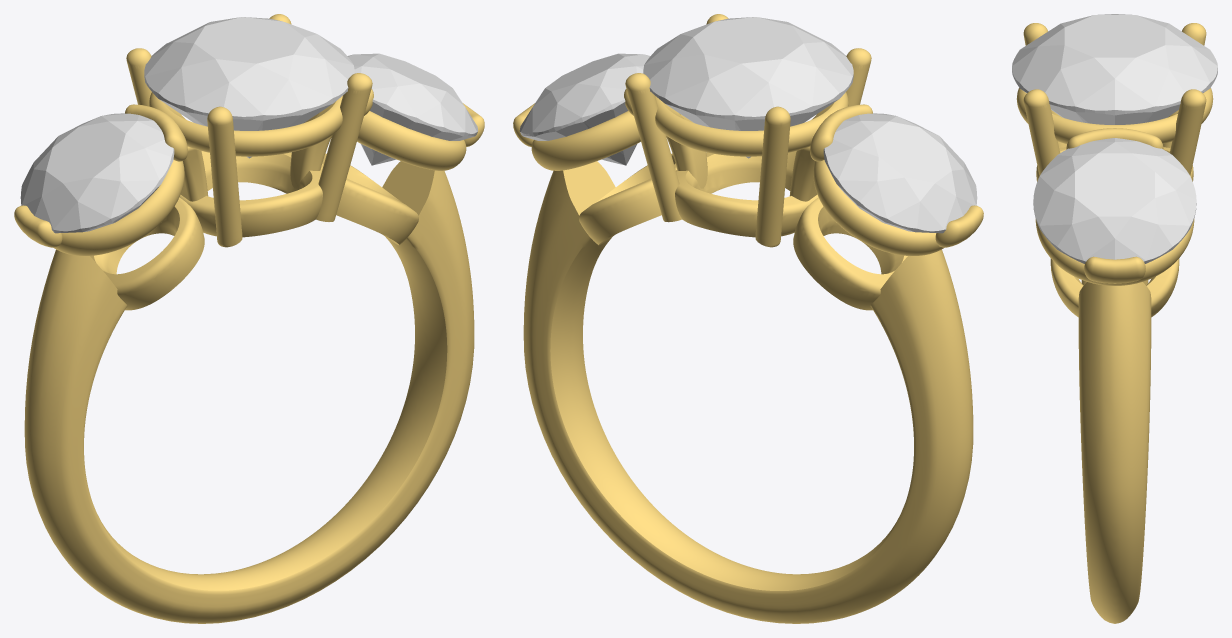
Rendered from Paula2ct_blender.glb.
3 views of the same model, side by side, from view 1: azimuth 30°, elevation 25°; view 2: azimuth 150°, elevation 25°; view 3: azimuth 270°, elevation 25° (orthographic). The views are drawn at different scales.
Visible parts, largest first — view 1: Paula YG for 3d model, Paula dia for 3d model.002, Paula dia for 3d model.001, Paula dia for 3d model; view 2: Paula YG for 3d model, Paula dia for 3d model.002, Paula dia for 3d model.001, Paula dia for 3d model; view 3: Paula YG for 3d model, Paula dia for 3d model.002, Paula dia for 3d model.
Boxes of the visible parts, left/top/right/bottom form: Paula YG for 3d model: left=14, top=14, right=484, bottom=623; Paula dia for 3d model.002: left=144, top=17, right=354, bottom=158; Paula dia for 3d model.001: left=20, top=113, right=174, bottom=233; Paula dia for 3d model: left=347, top=53, right=478, bottom=165; Paula YG for 3d model: left=513, top=14, right=983, bottom=623; Paula dia for 3d model.002: left=643, top=17, right=853, bottom=158; Paula dia for 3d model.001: left=823, top=113, right=977, bottom=233; Paula dia for 3d model: left=519, top=53, right=650, bottom=165; Paula YG for 3d model: left=1016, top=23, right=1213, bottom=623; Paula dia for 3d model.002: left=1012, top=14, right=1217, bottom=124; Paula dia for 3d model: left=1033, top=138, right=1196, bottom=263.
Size of the model in its own units: 20.31 by 24.79 by 8.2.
